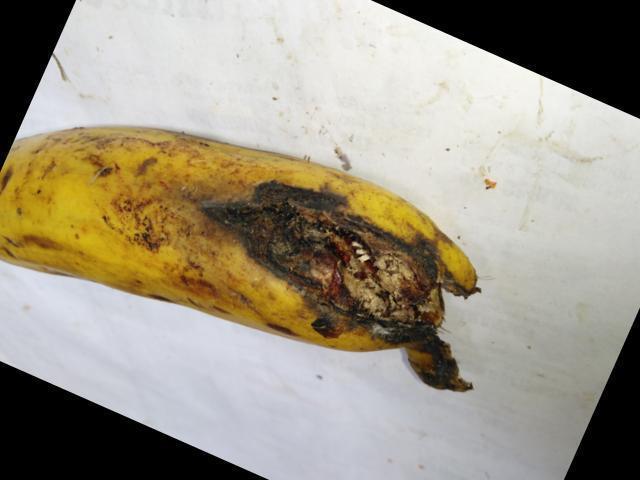rotten: (167, 155, 492, 408)
